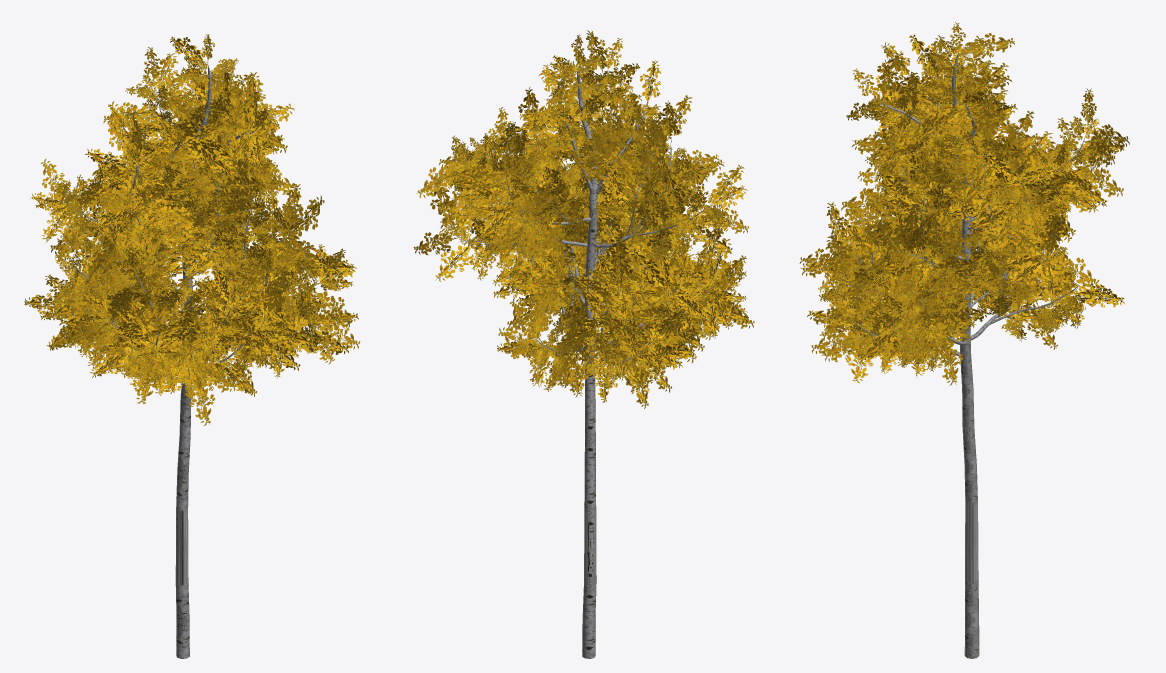
Rendered from treeez2_compressed.glb.
3 views of the same model, side by side, from view 1: azimuth 30°, elevation 25°; view 2: azimuth 150°, elevation 25°; view 3: azimuth 270°, elevation 25° (orthographic). The views are drawn at different scales.
Bounding box in the file's own units: 37.59 × 70.52 × 35.58.
Materials: 2 (2 with a texture image).
